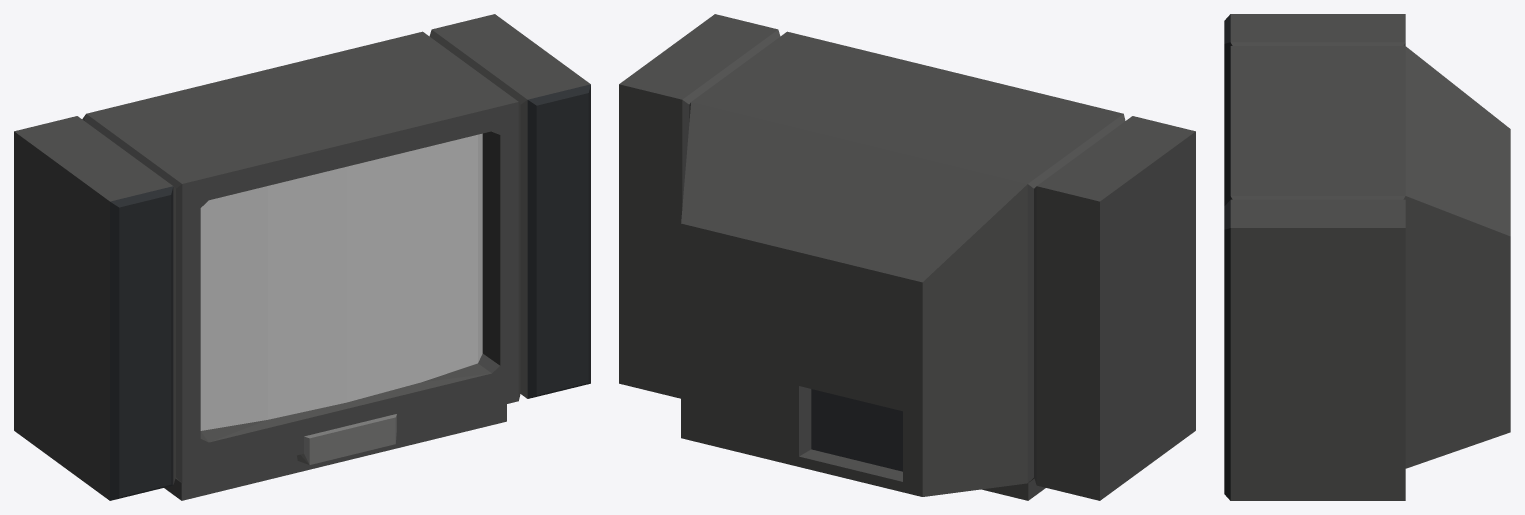
Rendered from SM_Prop_Television_Old_01.fbx.
3 renders of one model, left to right at view 1: azimuth 30°, elevation 25°; view 2: azimuth 150°, elevation 25°; view 3: azimuth 270°, elevation 25°, orthographic. The views are drawn at different scales.
Visible parts, largest first — view 1: SM_Prop_Television_Old_01; view 2: SM_Prop_Television_Old_01; view 3: SM_Prop_Television_Old_01.
Part boxes in pixels (left/top/right/bottom): SM_Prop_Television_Old_01: left=14, top=14, right=590, bottom=500; SM_Prop_Television_Old_01: left=619, top=14, right=1195, bottom=500; SM_Prop_Television_Old_01: left=1224, top=14, right=1510, bottom=500.
Bounding box in the file's own units: 90.9 × 58.32 × 51.44.
